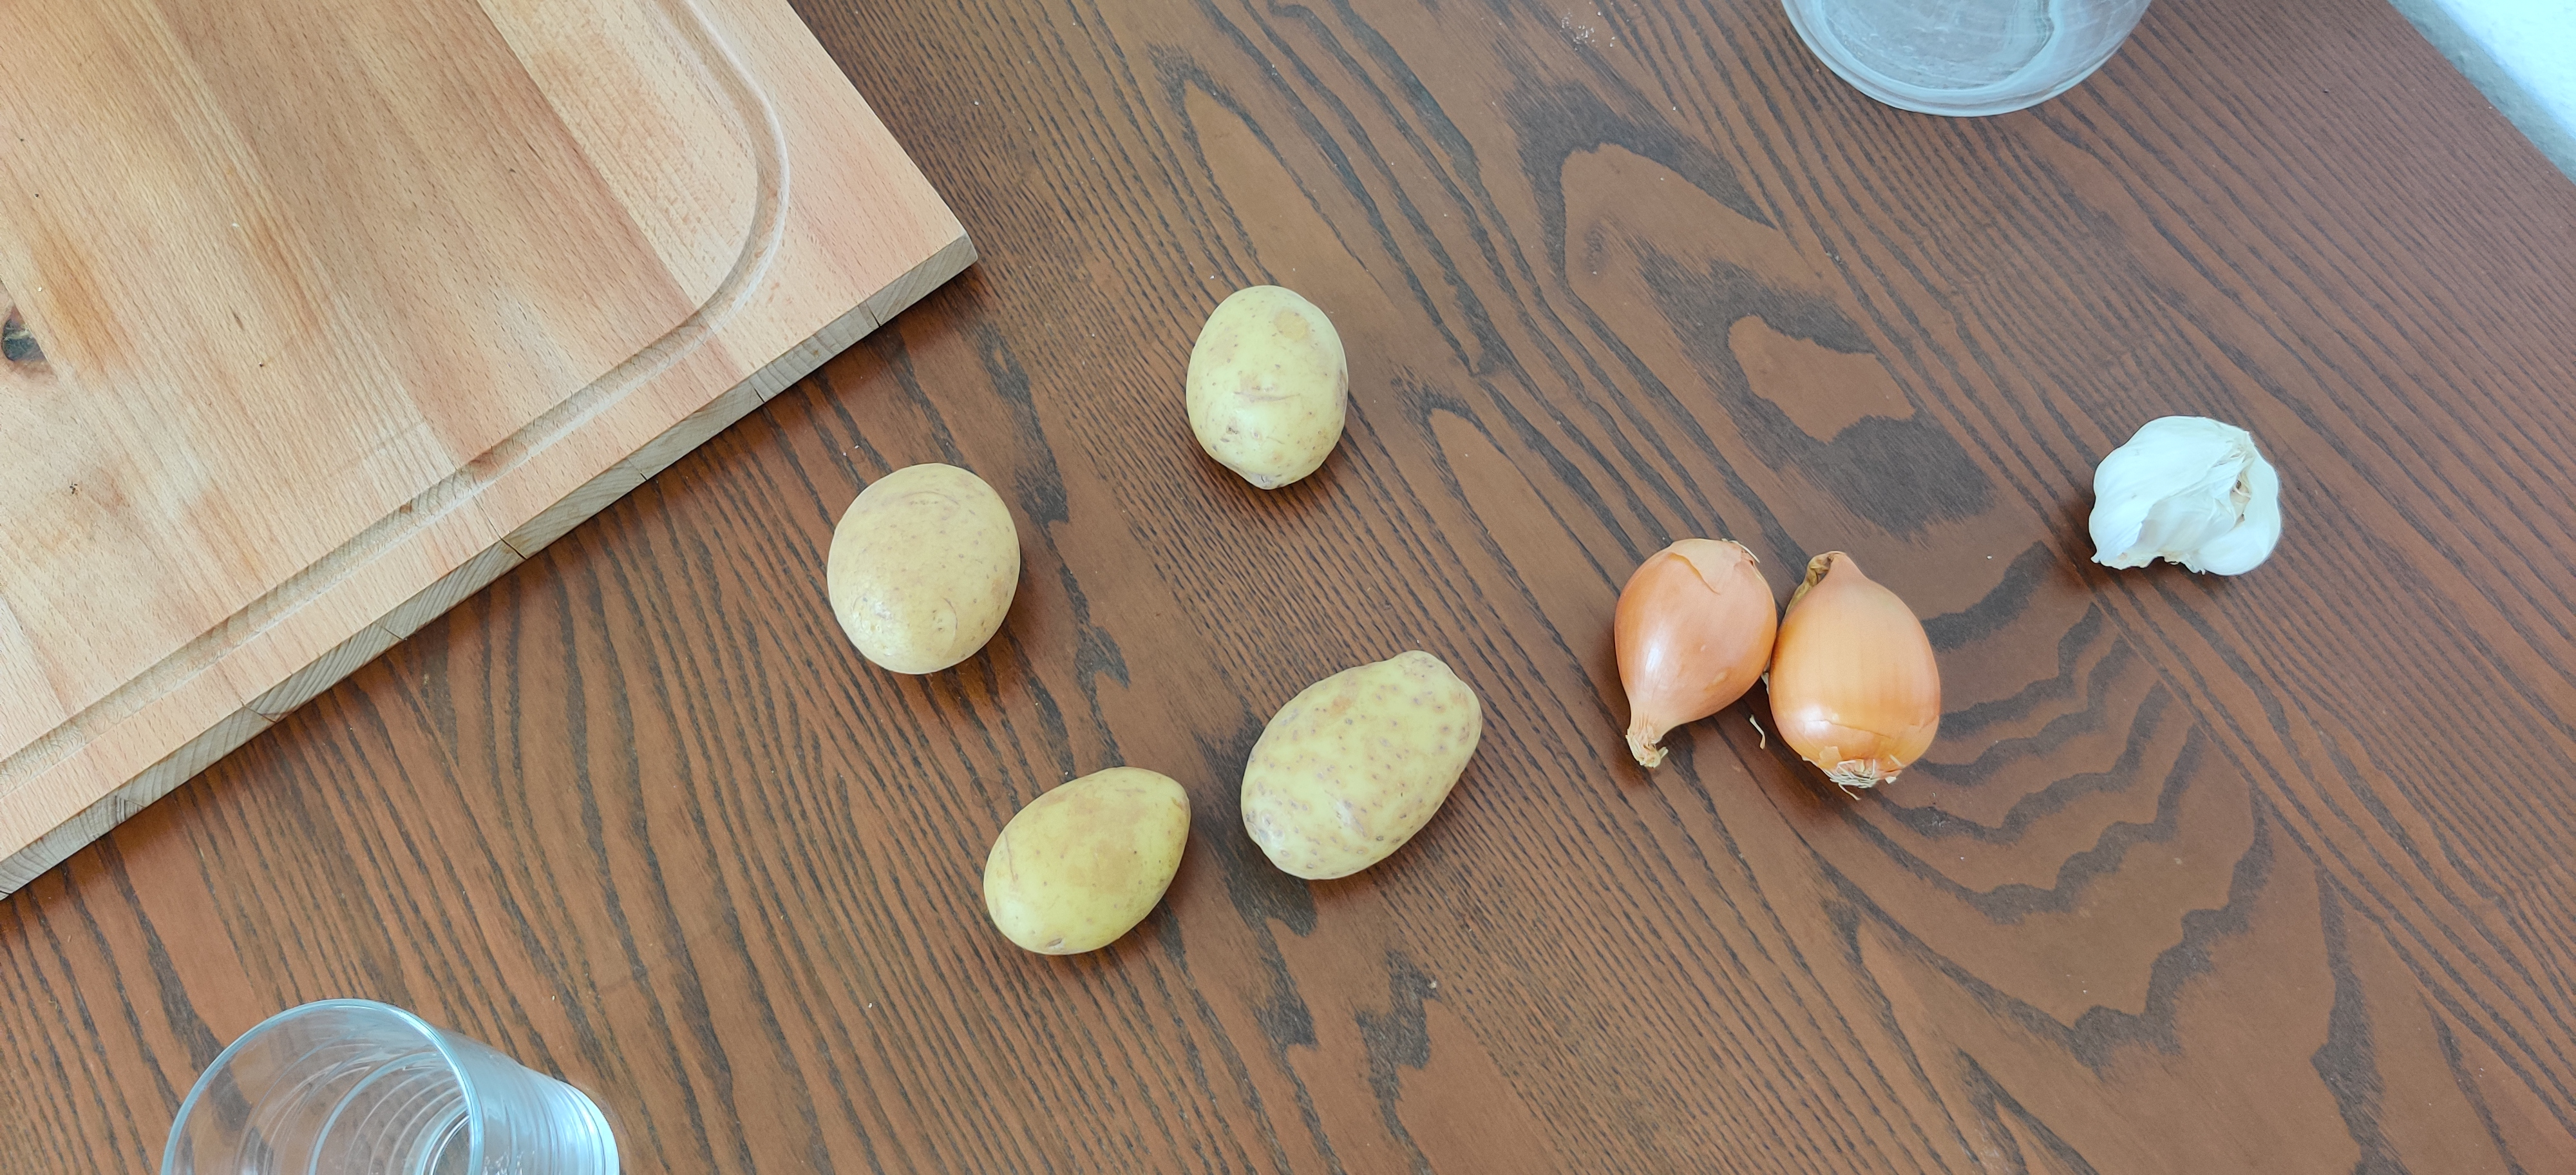Kartoffel: (1240, 651, 1483, 879), (826, 462, 1020, 674), (984, 766, 1189, 955), (1188, 284, 1350, 490)
